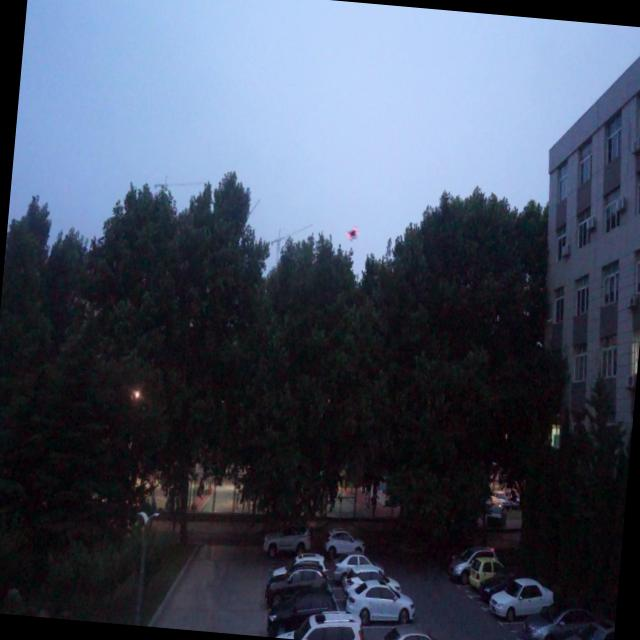drone: (344, 222, 360, 242)
